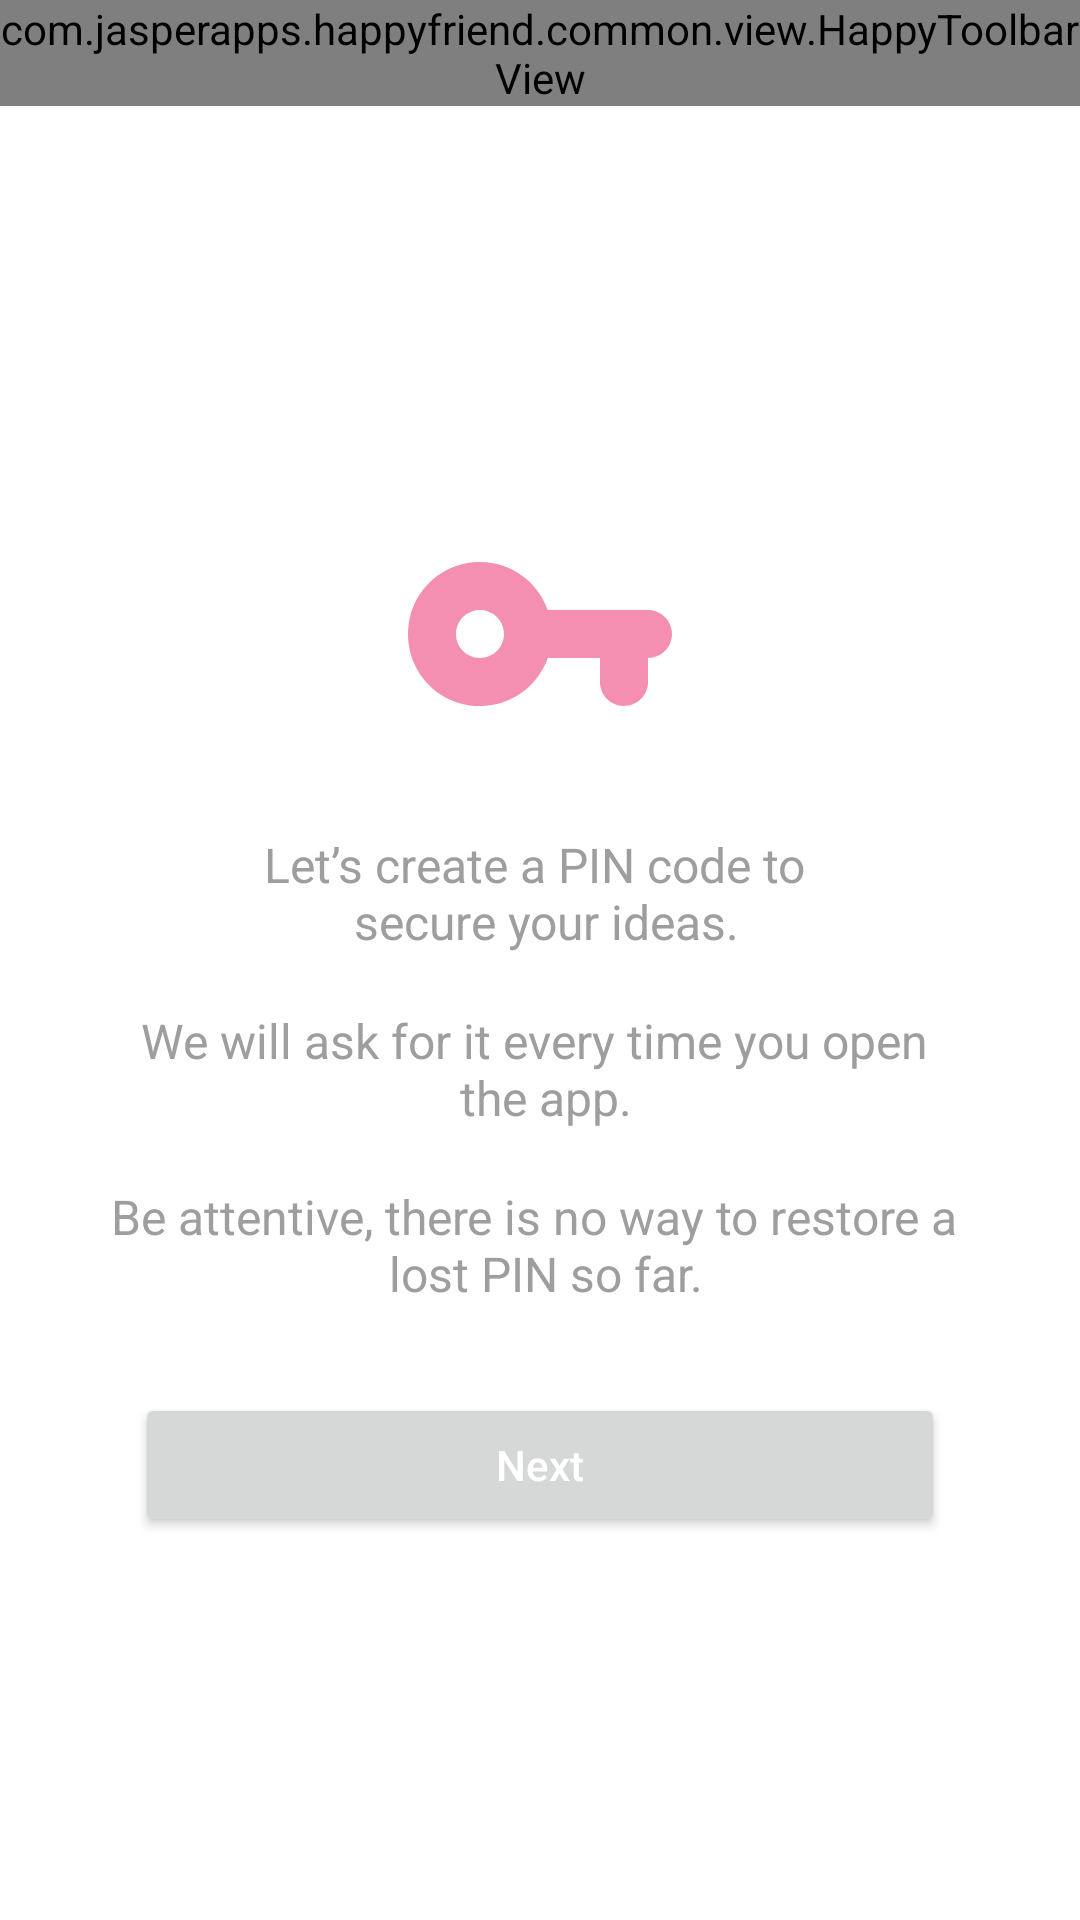

Icons on this 1080px x 1920px Android screen, each with the point to tap as (x,y):
vpn key: (540,634)
